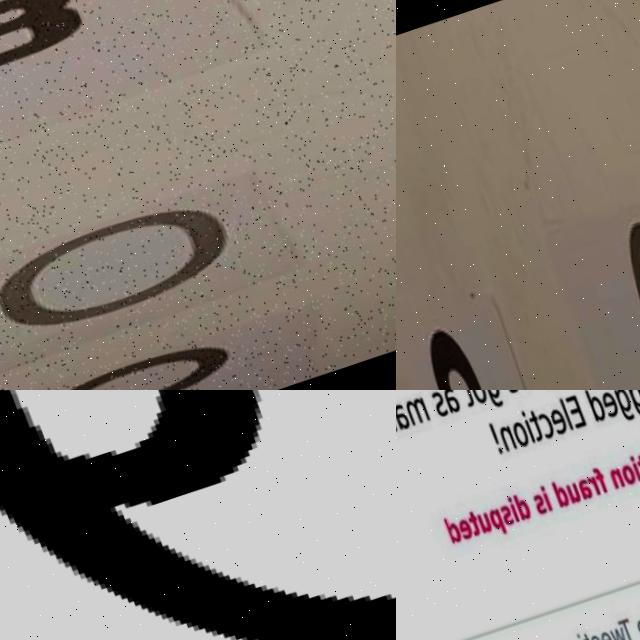0: (0, 173, 257, 359)
3: (401, 305, 536, 390)
8: (0, 0, 119, 107)
9: (0, 390, 396, 640), (7, 310, 264, 390)
A: (571, 476, 591, 502), (438, 390, 459, 414), (396, 399, 408, 431)
C: (533, 409, 554, 438)
D: (580, 390, 603, 420), (547, 475, 567, 507), (509, 488, 529, 520), (439, 514, 458, 543)
E: (561, 392, 584, 428), (545, 404, 567, 436), (596, 390, 617, 417), (452, 515, 472, 541), (629, 615, 640, 640), (594, 627, 612, 640), (584, 630, 601, 640)
F: (588, 463, 606, 494)
G: (609, 390, 633, 420), (478, 390, 502, 408), (623, 390, 640, 415)
I: (518, 409, 533, 442), (535, 483, 549, 511), (626, 452, 639, 480), (504, 494, 515, 520), (570, 629, 583, 640)
L: (555, 395, 570, 428)
M: (401, 395, 428, 427)
N: (495, 423, 514, 451), (606, 465, 623, 488)
O: (507, 418, 528, 447), (616, 460, 634, 484), (466, 390, 487, 404)
P: (484, 505, 504, 538)
R: (583, 472, 598, 495)
S: (426, 390, 447, 417), (527, 490, 545, 516), (494, 501, 512, 527)
T: (522, 406, 542, 441), (611, 614, 632, 640), (462, 509, 478, 536), (454, 390, 473, 407), (629, 450, 640, 478), (576, 630, 590, 640)
U: (561, 480, 580, 504), (472, 509, 490, 533)
W: (605, 624, 624, 640)
